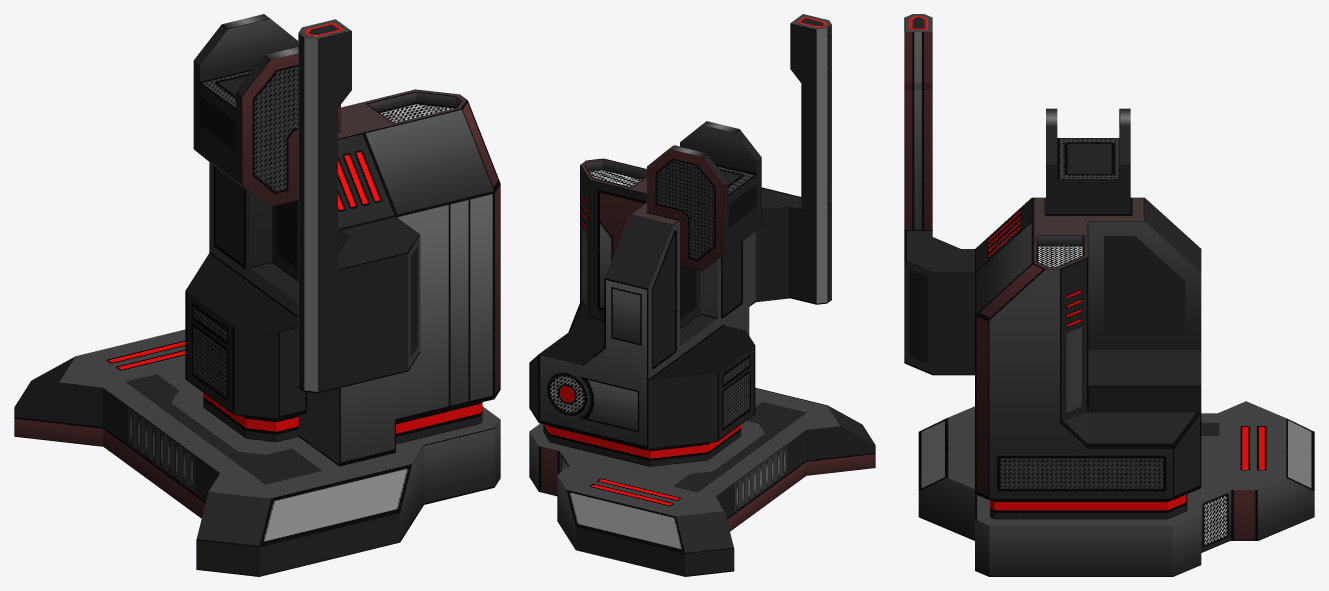
File: BBB_building_004.fbx
3 views of the same model, side by side, from view 1: azimuth 30°, elevation 25°; view 2: azimuth 150°, elevation 25°; view 3: azimuth 270°, elevation 25° (orthographic). The views are drawn at different scales.
Parts seen in each view (by area): view 1: main; view 2: main; view 3: main.
Part boxes in pixels (x1,y1,x2,y2): main: (14, 14, 500, 576); main: (529, 14, 875, 576); main: (904, 14, 1314, 576).
Size of the model in its own units: 674 by 1063 by 856.
